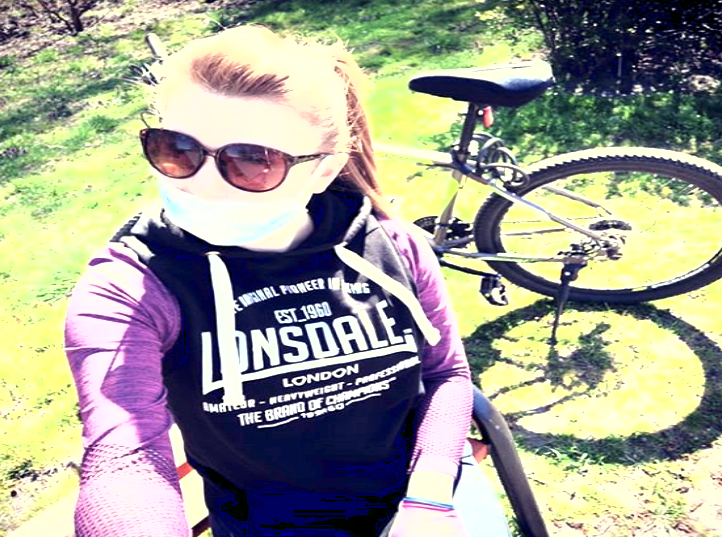mask_weared_incorrect: (133, 30, 359, 249)
